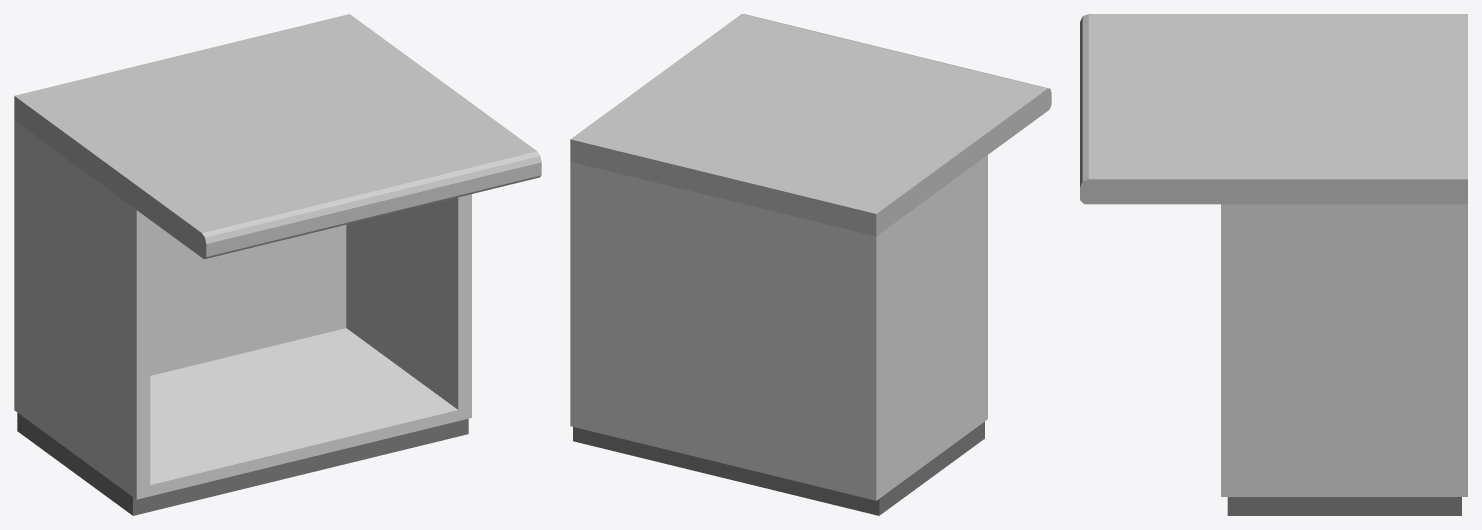
The model's file is counter.glb.
3 renders of one model, left to right at view 1: azimuth 30°, elevation 25°; view 2: azimuth 150°, elevation 25°; view 3: azimuth 270°, elevation 25°, orthographic. The views are drawn at different scales.
Parts seen in each view (by area): view 1: Counter (Connected - B); view 2: Counter (Connected - B); view 3: Counter (Connected - B).
Boxes of the visible parts, x1,y1,x2,y2 form: Counter (Connected - B): (14,14,541,515); Counter (Connected - B): (570,14,1051,515); Counter (Connected - B): (1080,14,1467,515).
Bounding box in the file's own units: 1 × 0.949 × 0.9913.
Materials: 1 (1 with a texture image).
